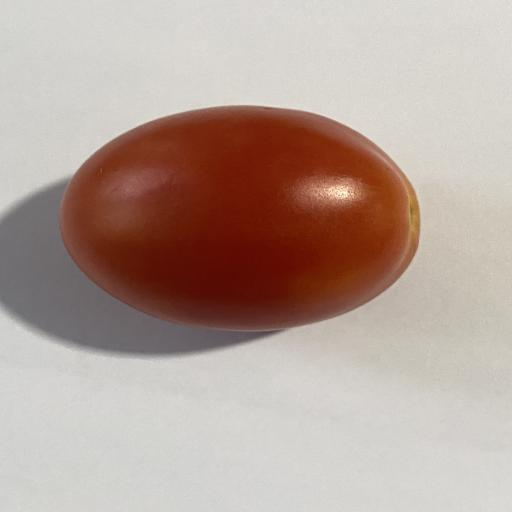ripe: (60, 106, 419, 331)
